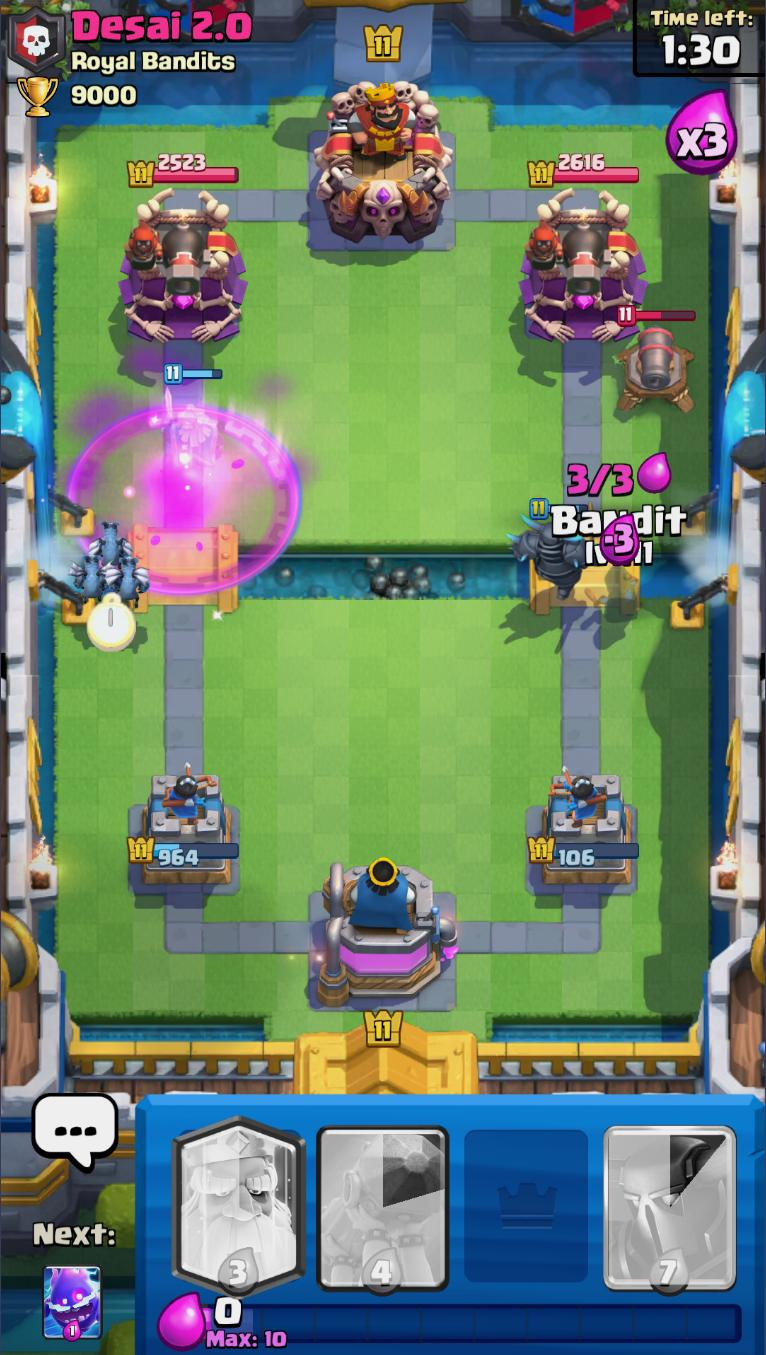BattleRamDeck: (310, 1094, 456, 1299)
Cannon: (616, 304, 697, 419)
Cannoneer: (524, 214, 609, 300), (127, 216, 207, 300)
ElectroSpiritNext: (41, 1261, 101, 1346)
Elixir: (203, 1296, 743, 1346)
Empty: (456, 1096, 597, 1293)
EnemyTower: (121, 187, 250, 343), (520, 189, 650, 343)
KingTower: (314, 77, 456, 246)
MyKingTower: (319, 860, 457, 1011)
MyMinion: (69, 549, 117, 609), (106, 551, 151, 609), (86, 519, 136, 570)
MyPekka: (510, 496, 606, 601)
MyPrincessTower: (527, 774, 641, 890), (127, 776, 241, 890)
MyPrincessTowerHP: (127, 833, 241, 869), (526, 836, 641, 869)
MyRoyaleGhost: (159, 363, 227, 479)
PekkaDeck: (596, 1096, 741, 1293)
Rage: (60, 401, 307, 599)
RoyaleGhostDeck: (167, 1094, 313, 1294)
TowerPrincessHP: (129, 153, 241, 189), (529, 153, 640, 189)
